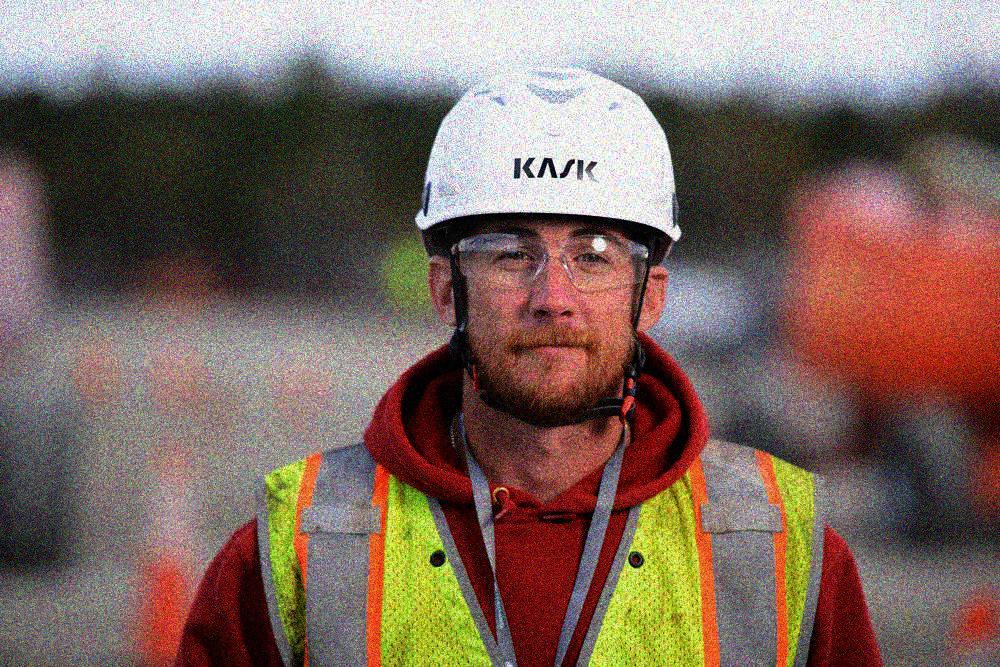helmet: (418, 64, 681, 409)
